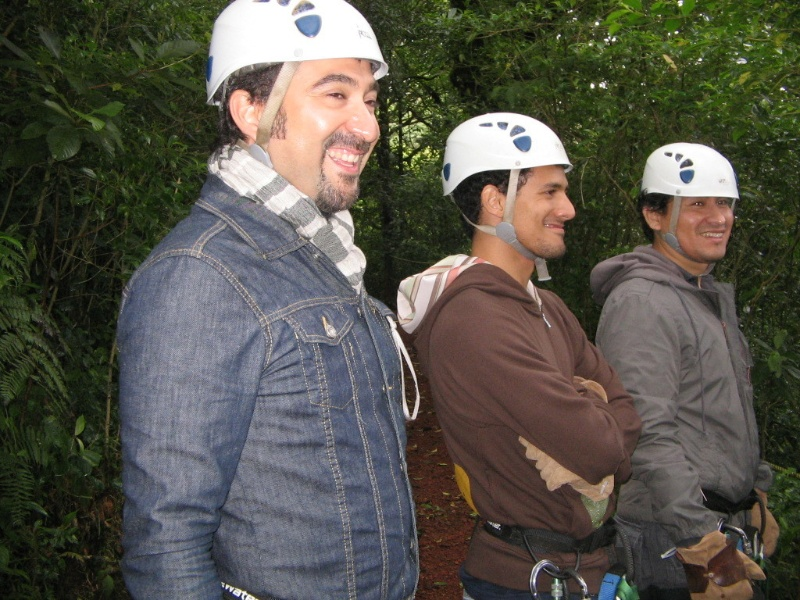Baret: (203, 1, 388, 97), (442, 112, 574, 193), (641, 141, 739, 200)
